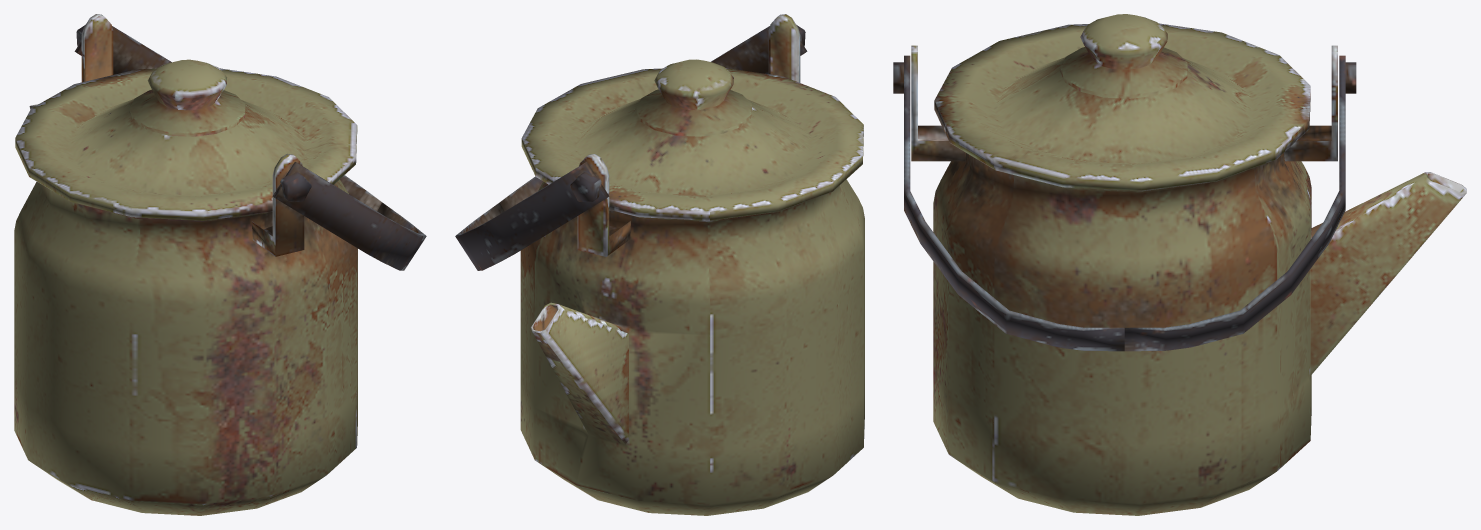
The model's file is SM_Kettle_Kitchen.glb.
3 renders of one model, left to right at view 1: azimuth 30°, elevation 25°; view 2: azimuth 150°, elevation 25°; view 3: azimuth 270°, elevation 25°, orthographic. The views are drawn at different scales.
Parts seen in each view (by area): view 1: SM_Kettle_Kitchen; view 2: SM_Kettle_Kitchen; view 3: SM_Kettle_Kitchen.
Boxes of the visible parts, x1=… form: SM_Kettle_Kitchen: x1=14, y1=14, x2=426, y2=515; SM_Kettle_Kitchen: x1=455, y1=14, x2=864, y2=515; SM_Kettle_Kitchen: x1=893, y1=14, x2=1466, y2=515.
Bounding box in the file's own units: 0.212 × 0.2273 × 0.2766.
Materials: 1 (1 with a texture image).
